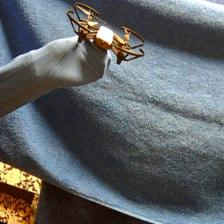drone: (66, 0, 145, 65)
